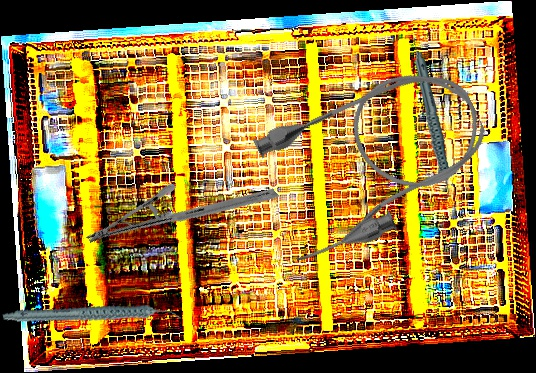Cannula: (240, 44, 508, 276)
Handpiece: (1, 276, 183, 357), (409, 51, 456, 202)
Needle Holder: (84, 119, 280, 313)
